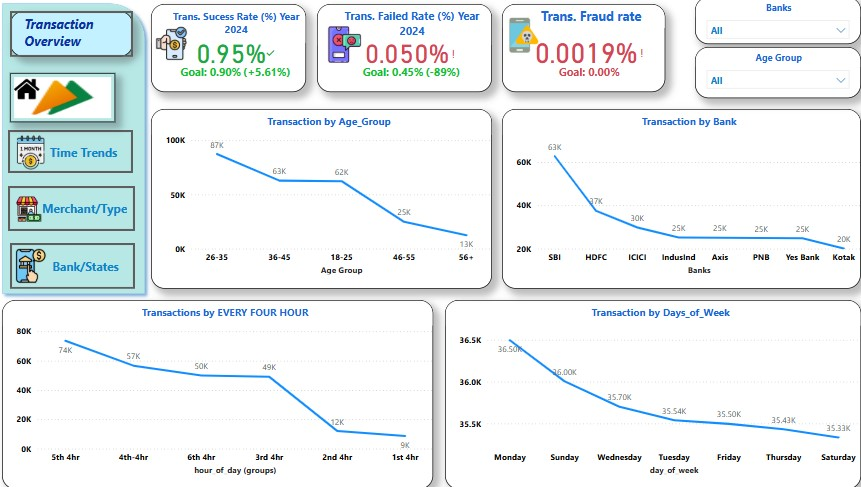

The page's visual inventory and layout, read from the dashboard file:
{"tool":"powerbi","page":{"name":"Transaction Overview","canvas":[1280,720],"ordinal":1},"visuals":[{"type":"kpi","title":"Trans. Sucess Rate (%) Year 2024","fields":{"Indicator":["Upi.Sucess Rate (%)"],"TrendLine":["Upi.timestamp.Variation.Date Hierarchy.Year"],"Goal":["Upi.Targeted Success Rate"]},"box":[226.8,10.2,226.8,128.8],"z":0},{"type":"kpi","title":"Trans. Failed Rate (%) Year 2024","fields":{"Indicator":["Upi.Failed Rate (%)"],"TrendLine":["Upi.timestamp.Variation.Date Hierarchy.Year"],"Goal":["Upi.Targeted Failed Rate"]},"box":[469.8,10.2,256.1,128.8],"z":1000},{"type":"kpi","title":"Trans. Fraud rate ","fields":{"Indicator":["Upi.Fraud rate"],"TrendLine":["Upi.timestamp.Variation.Date Hierarchy.Year"],"Goal":["Upi.Targeted Fraud rate"]},"box":[740.5,10.2,238.5,128.8],"z":2000},{"type":"shape","box":[0,0,226.8,443.4],"z":3000},{"type":"lineChart","title":"Transactions by EVERY FOUR HOUR","fields":{"Category":["Upi.hour_of_day (groups)"],"Y":["CountNonNull(Upi.transaction id)"]},"box":[8.8,443.4,630.7,276.6],"z":4000},{"type":"image","box":[226.8,30.7,60,74.6],"z":5000},{"type":"image","box":[469.8,38,82,62.9],"z":6000},{"type":"image","box":[742,23.4,61.5,64.4],"z":7000},{"type":"image","box":[20.5,286.8,54.1,46.8],"z":8000},{"type":"actionButton","title":"Marchant","box":[17.6,276.6,185.9,65.9],"z":9000},{"type":"actionButton","box":[17.6,194.6,182.9,62.9],"z":10000},{"type":"image","box":[8.8,197.6,83.4,60],"z":11000},{"type":"image","box":[20.5,343.9,61.5,99.5],"z":12000},{"type":"lineChart","title":"Transaction by Days_of_Week","fields":{"Y":["CountNonNull(Upi.transaction type)"],"Category":["Upi.day_of_week"]},"box":[657.1,443.4,608.8,276.6],"z":13000},{"type":"actionButton","box":[20.5,360,182.9,67.3],"z":14000},{"type":"image","box":[20.5,111.2,153.7,71.7],"z":15000},{"type":"textbox","box":[20.5,20.5,180,67.3],"z":16000},{"type":"actionButton","box":[20.5,20.5,180,67.3],"z":17000},{"type":"lineChart","title":"Transaction by Age_Group","fields":{"Y":["CountNonNull(Upi.transaction id)"],"Category":["Upi.sender_age_group"]},"box":[226.8,147.8,499,279.5],"z":18000},{"type":"lineChart","title":"Transaction by Bank","fields":{"Y":["CountNonNull(Upi.transaction id)"],"Category":["Upi.sender_bank"]},"box":[740.5,158,525.4,269.3],"z":19000},{"type":"slicer","title":"Banks","fields":{"Values":["Upi.sender_bank"]},"box":[1022.9,0,242.9,68.8],"z":20000},{"type":"slicer","title":"Age Group","fields":{"Values":["Upi.sender_age_group"]},"box":[1022.9,73.2,242.9,74.6],"z":21000},{"type":"image","box":[20.5,111.2,48.3,46.8],"z":22000}]}

Visuals, with their boxes in screenshot pixels (x1, y1, x2, y2), scaled from the page's 1280x720 canvas onto the 861x487 screenshot:
"Trans. Sucess Rate (%) Year 2024" kpi: (x1=153, y1=7, x2=305, y2=94)
"Trans. Failed Rate (%) Year 2024" kpi: (x1=316, y1=7, x2=488, y2=94)
"Trans. Fraud rate " kpi: (x1=498, y1=7, x2=659, y2=94)
shape: (x1=0, y1=0, x2=153, y2=300)
"Transactions by EVERY FOUR HOUR" lineChart: (x1=6, y1=300, x2=430, y2=486)
image: (x1=153, y1=21, x2=193, y2=71)
image: (x1=316, y1=26, x2=371, y2=68)
image: (x1=499, y1=16, x2=540, y2=59)
image: (x1=14, y1=194, x2=50, y2=226)
"Marchant" actionButton: (x1=12, y1=187, x2=137, y2=232)
actionButton: (x1=12, y1=132, x2=135, y2=174)
image: (x1=6, y1=134, x2=62, y2=174)
image: (x1=14, y1=233, x2=55, y2=300)
"Transaction by Days_of_Week" lineChart: (x1=442, y1=300, x2=852, y2=486)
actionButton: (x1=14, y1=244, x2=137, y2=289)
image: (x1=14, y1=75, x2=117, y2=124)
textbox: (x1=14, y1=14, x2=135, y2=59)
actionButton: (x1=14, y1=14, x2=135, y2=59)
"Transaction by Age_Group" lineChart: (x1=153, y1=100, x2=488, y2=289)
"Transaction by Bank" lineChart: (x1=498, y1=107, x2=852, y2=289)
"Banks" slicer: (x1=688, y1=0, x2=851, y2=47)
"Age Group" slicer: (x1=688, y1=50, x2=851, y2=100)
image: (x1=14, y1=75, x2=46, y2=107)
